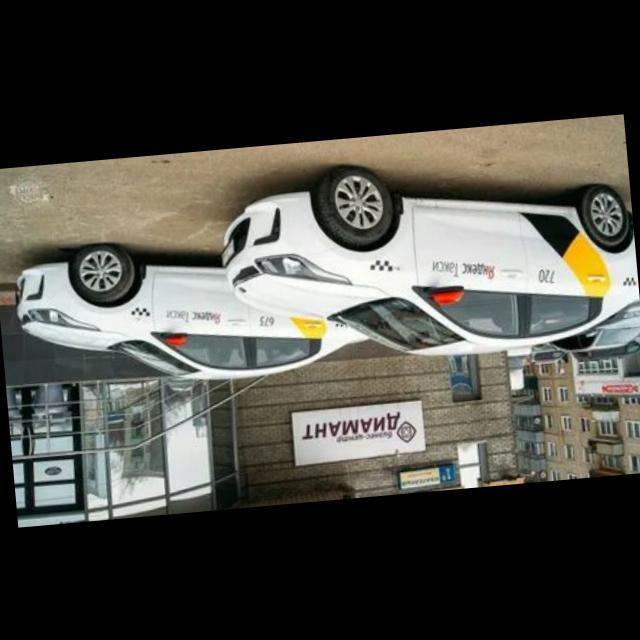taxi: (214, 143, 640, 380), (10, 222, 376, 401)
